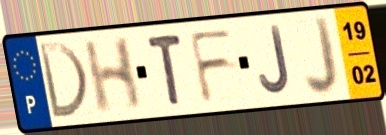D: (35, 40, 91, 121)
F: (186, 25, 237, 106)
H: (81, 33, 144, 117)
J: (302, 13, 341, 99), (257, 23, 293, 97)
T: (144, 31, 185, 107)
